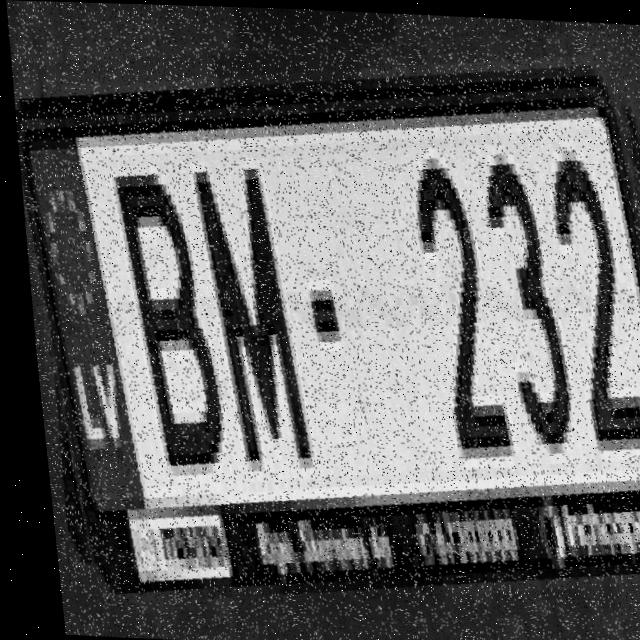LicensePlate: (1, 15, 640, 640)
